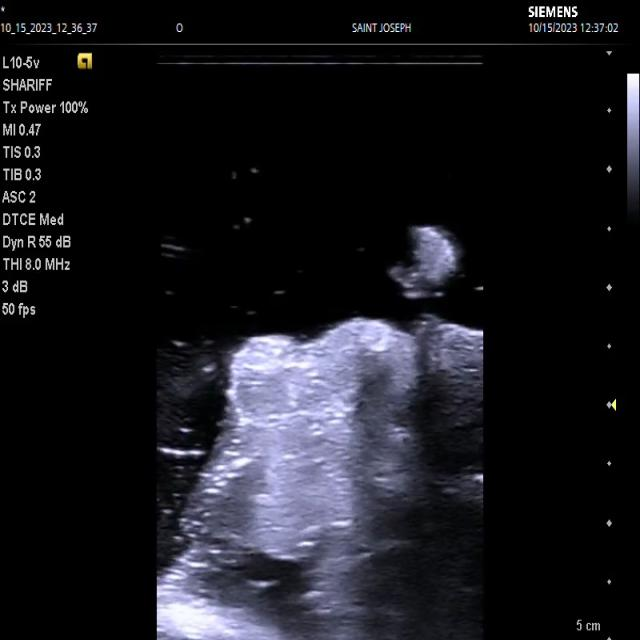tissue: (157, 319, 484, 640), (389, 226, 466, 298)
